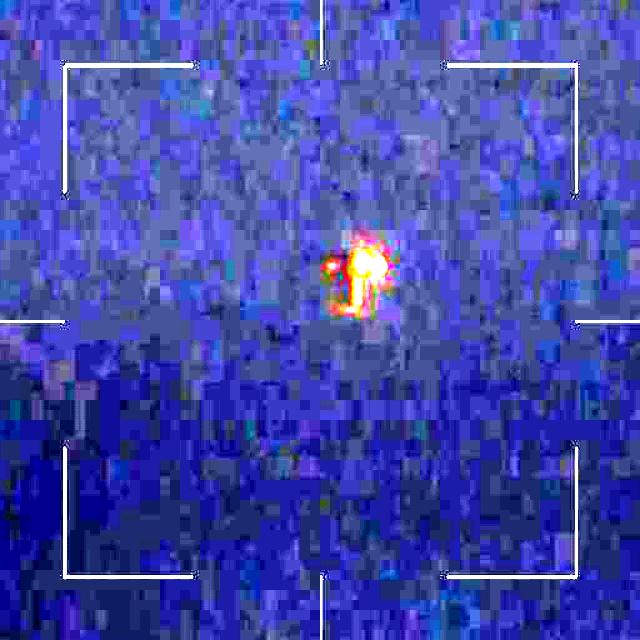bird: (310, 239, 388, 319)
